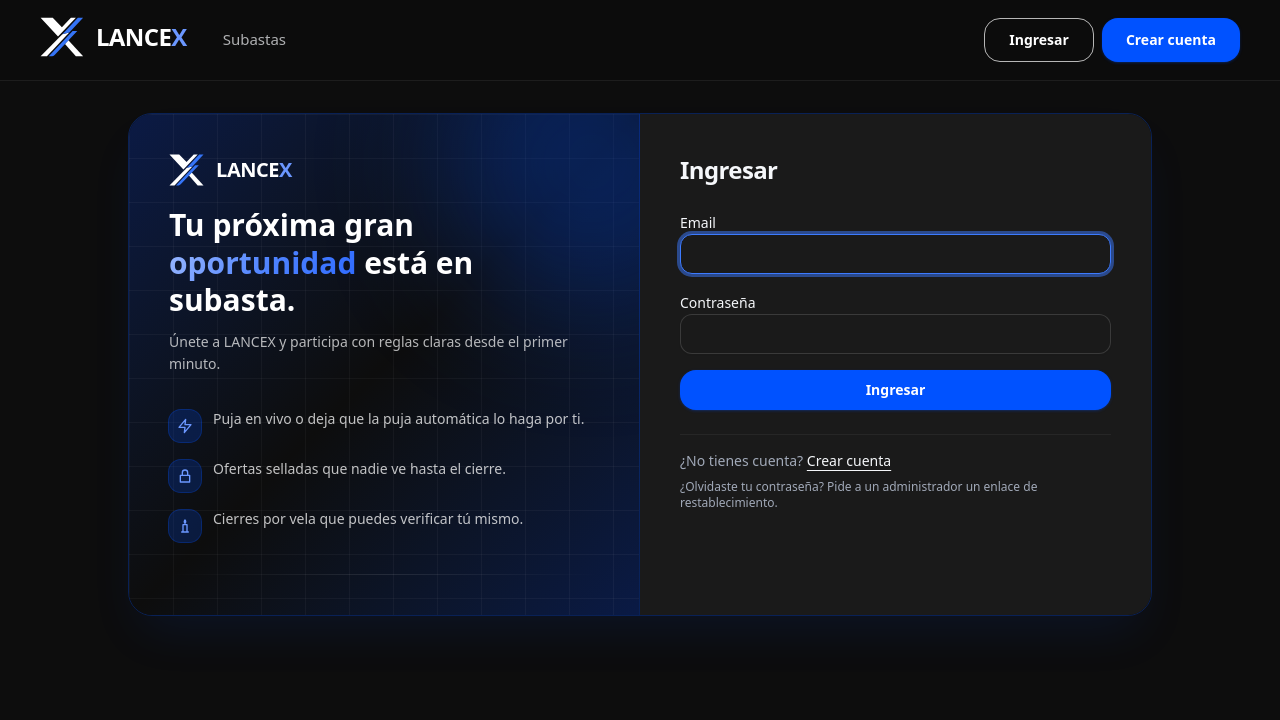
it: Login con verificación en dos pasos › pide el código; uno incorrecto NO se trata como sesión expirada; el correcto inicia sesión
Type "ana@demo.lancex.test" into the field labelled "Email" at (896, 254), box [680, 234, 1111, 274]
Type "DemoLancex2026!" into the password field labelled "Contraseña" at (896, 334), box [680, 314, 1111, 354]
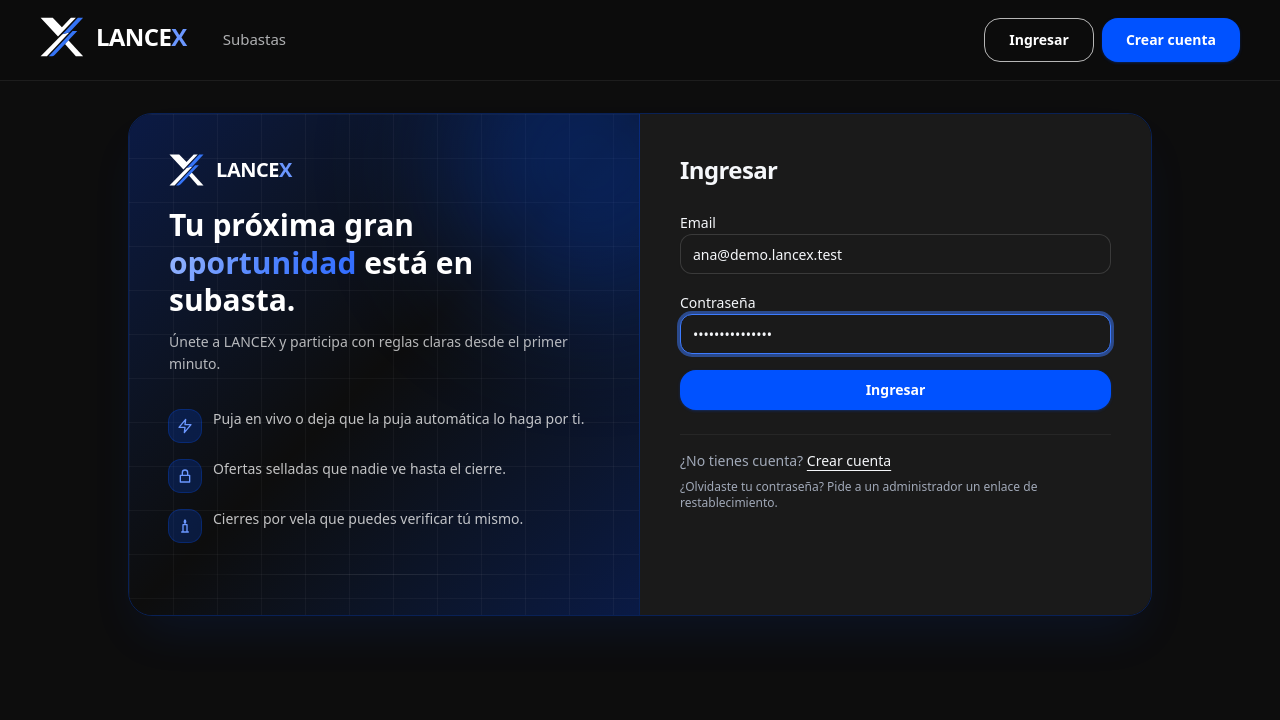
Click the button "Ingresar" at (896, 390), box [680, 370, 1111, 410]
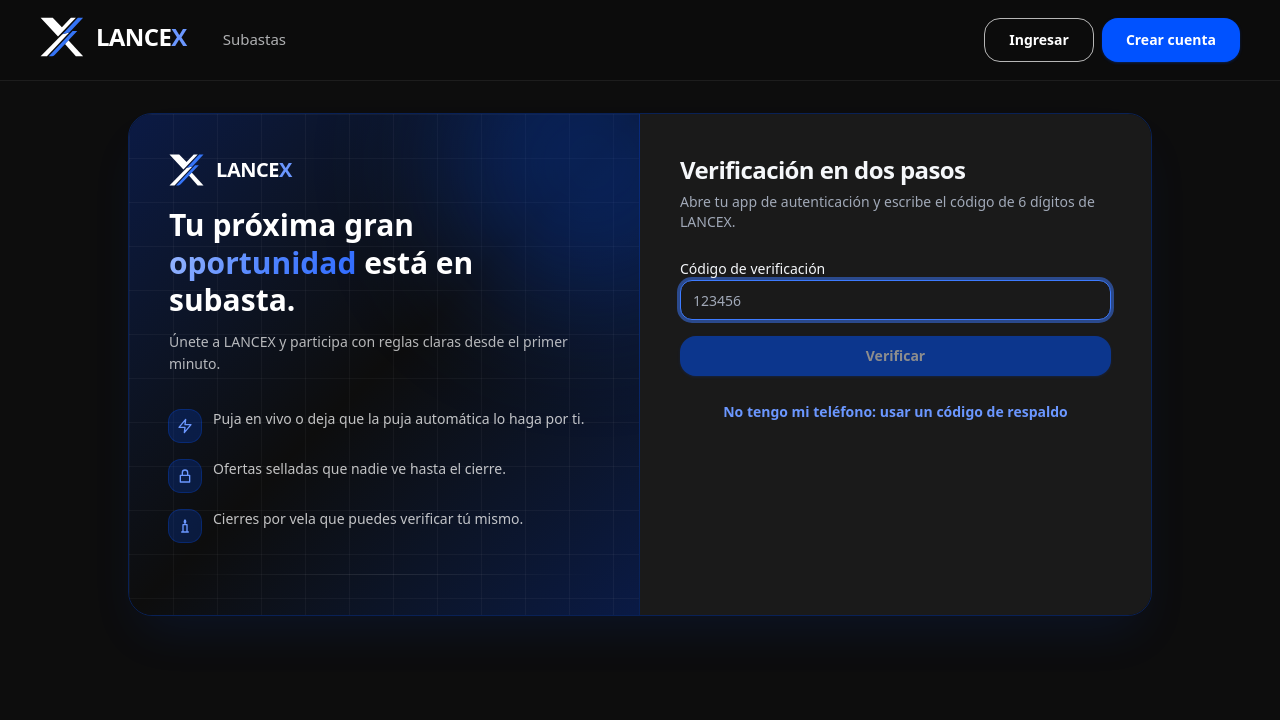
Type "12a3456" into the field labelled "Código de verificación" at (896, 300), box [680, 280, 1111, 320]
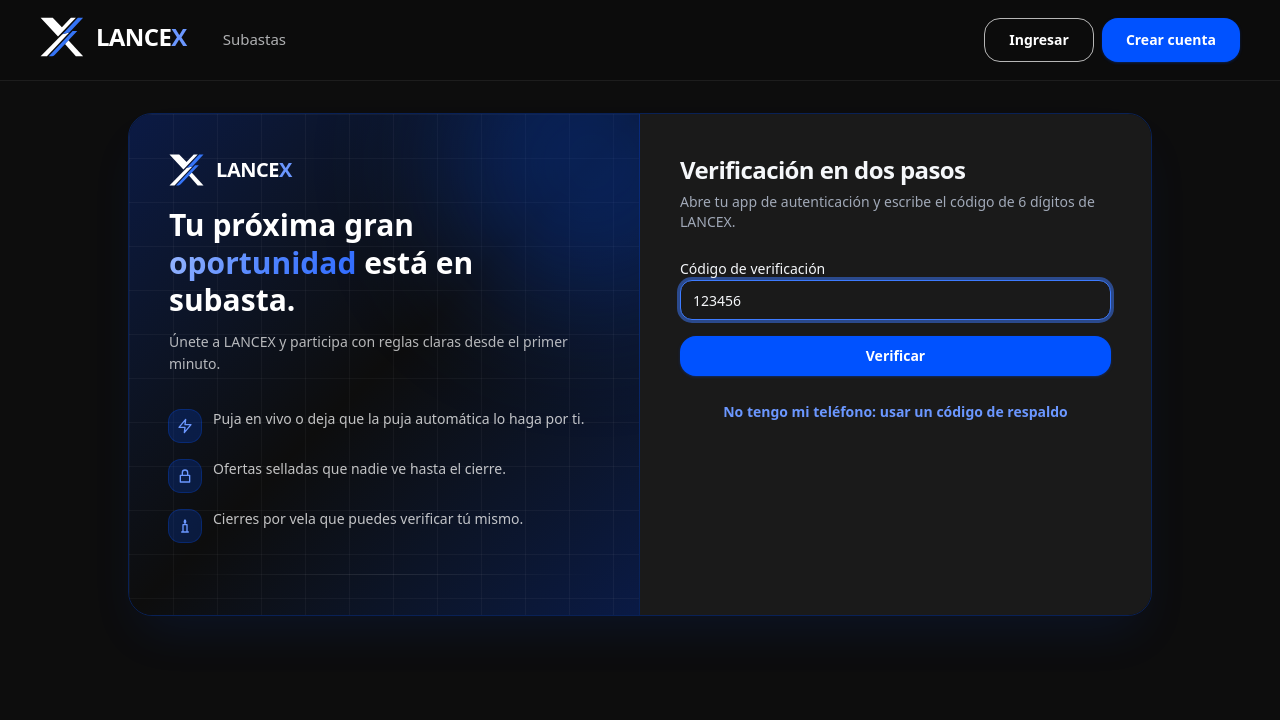
Expected: the field labelled "Código de verificación" holds "123456", [680, 280, 1111, 320]
Click the button "Verificar" at (896, 356), box [680, 336, 1111, 376]
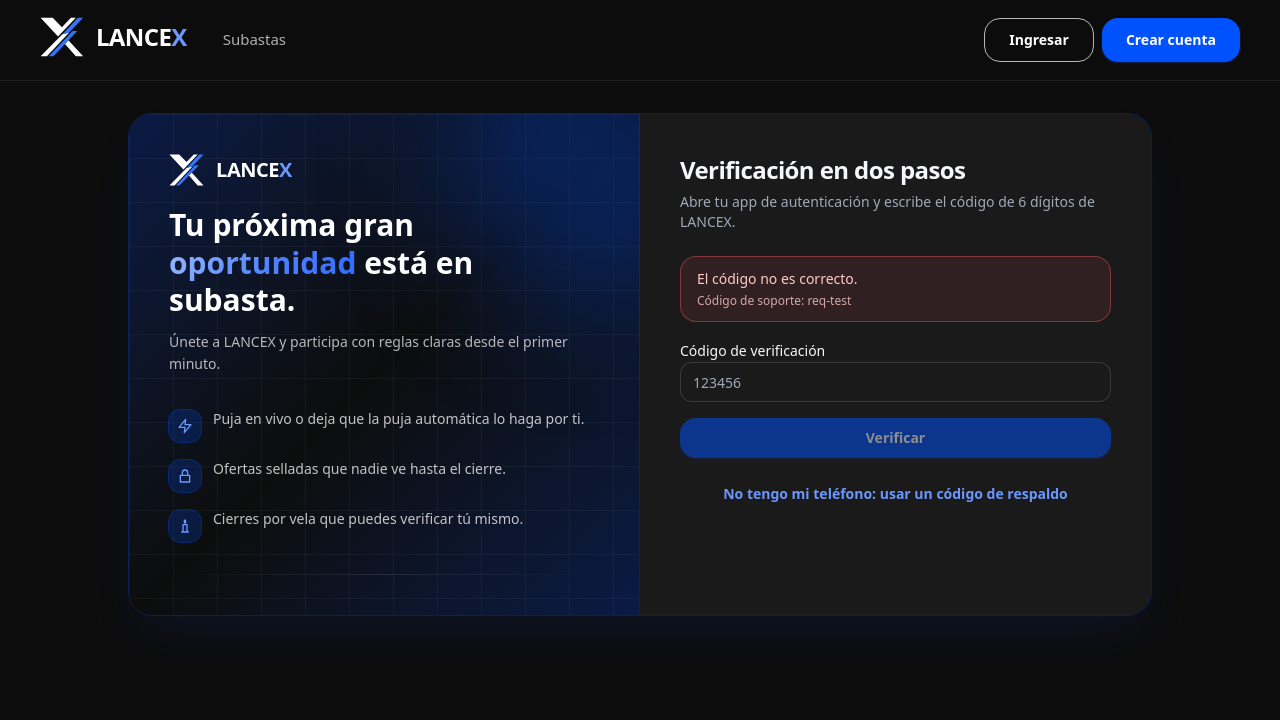
Expected: the message shows "El código no es correcto.", [697, 269, 858, 288]
Type "654321" into the field labelled "Código de verificación" at (896, 382), box [680, 362, 1111, 402]
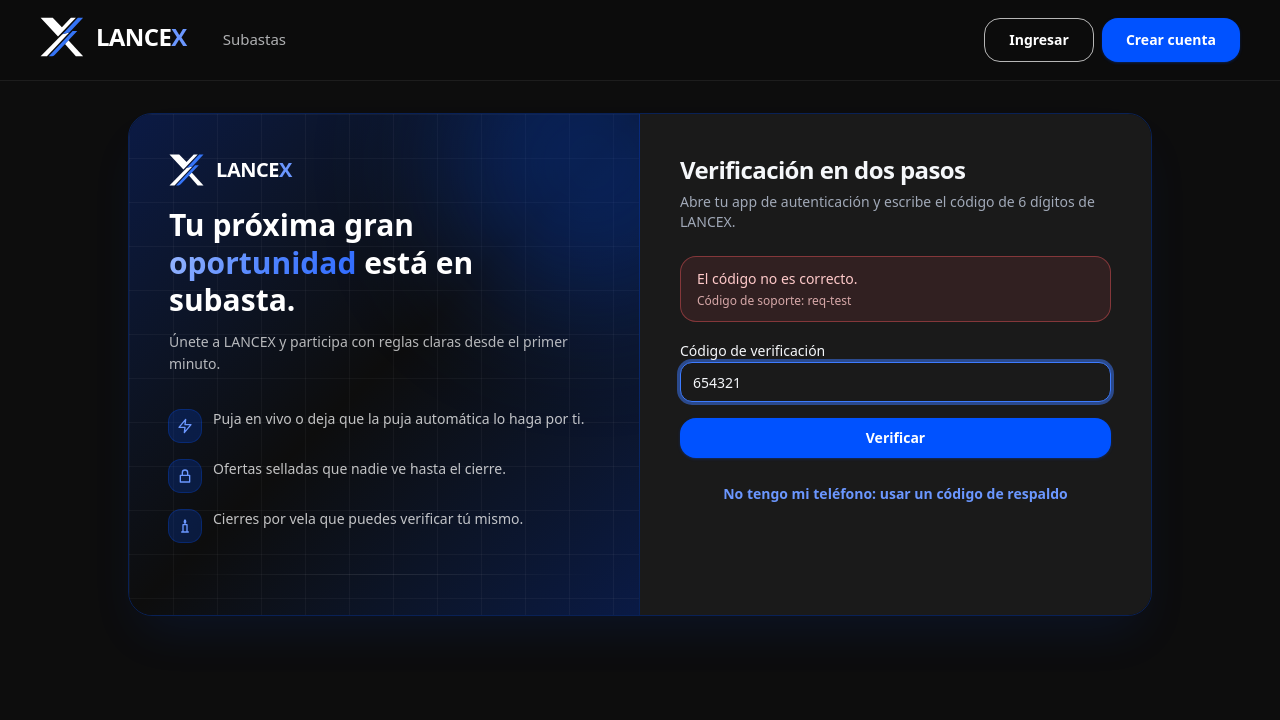
Click the button "Verificar" at (896, 438), box [680, 418, 1111, 458]
(page scrolled)
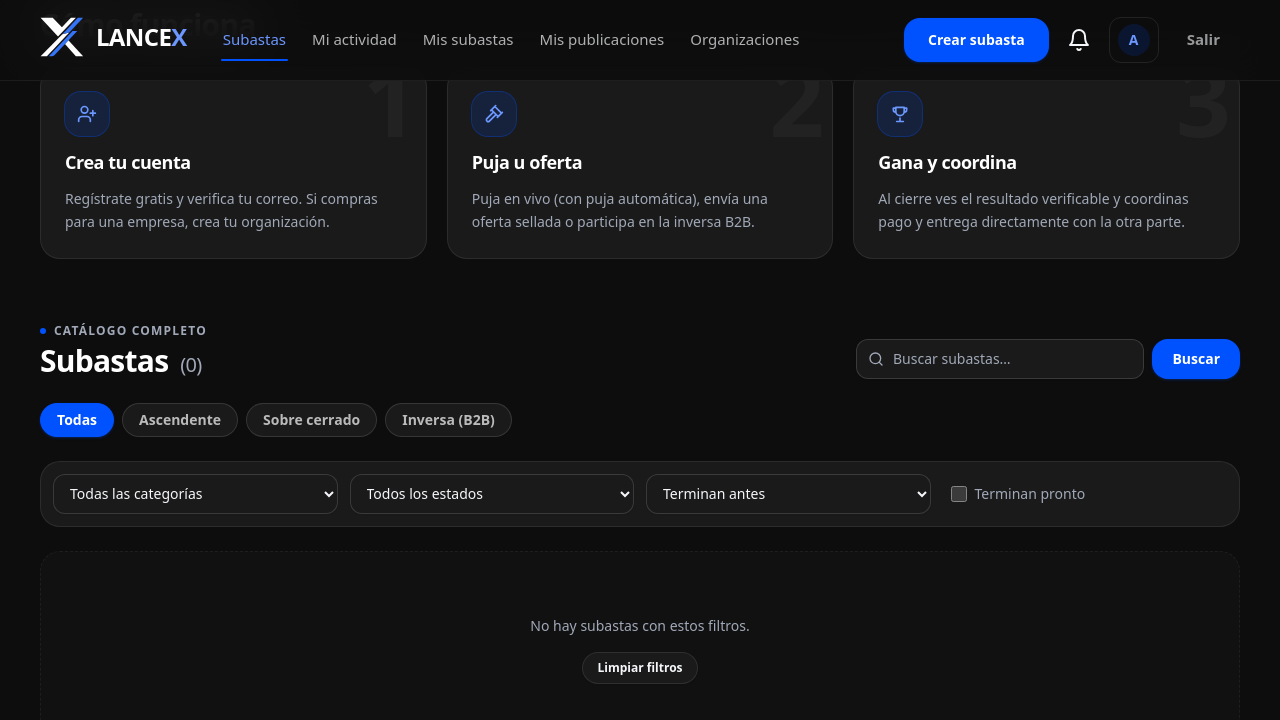
Expected: the heading "Subastas(0)" is shown, [40, 342, 207, 378]
